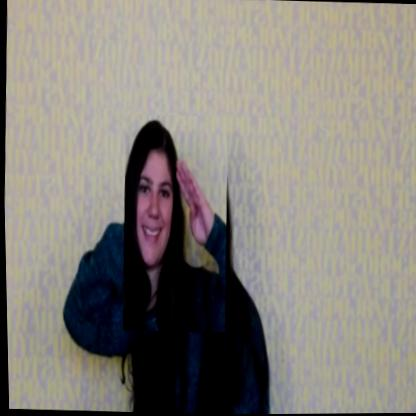Hello: (118, 114, 231, 333)
